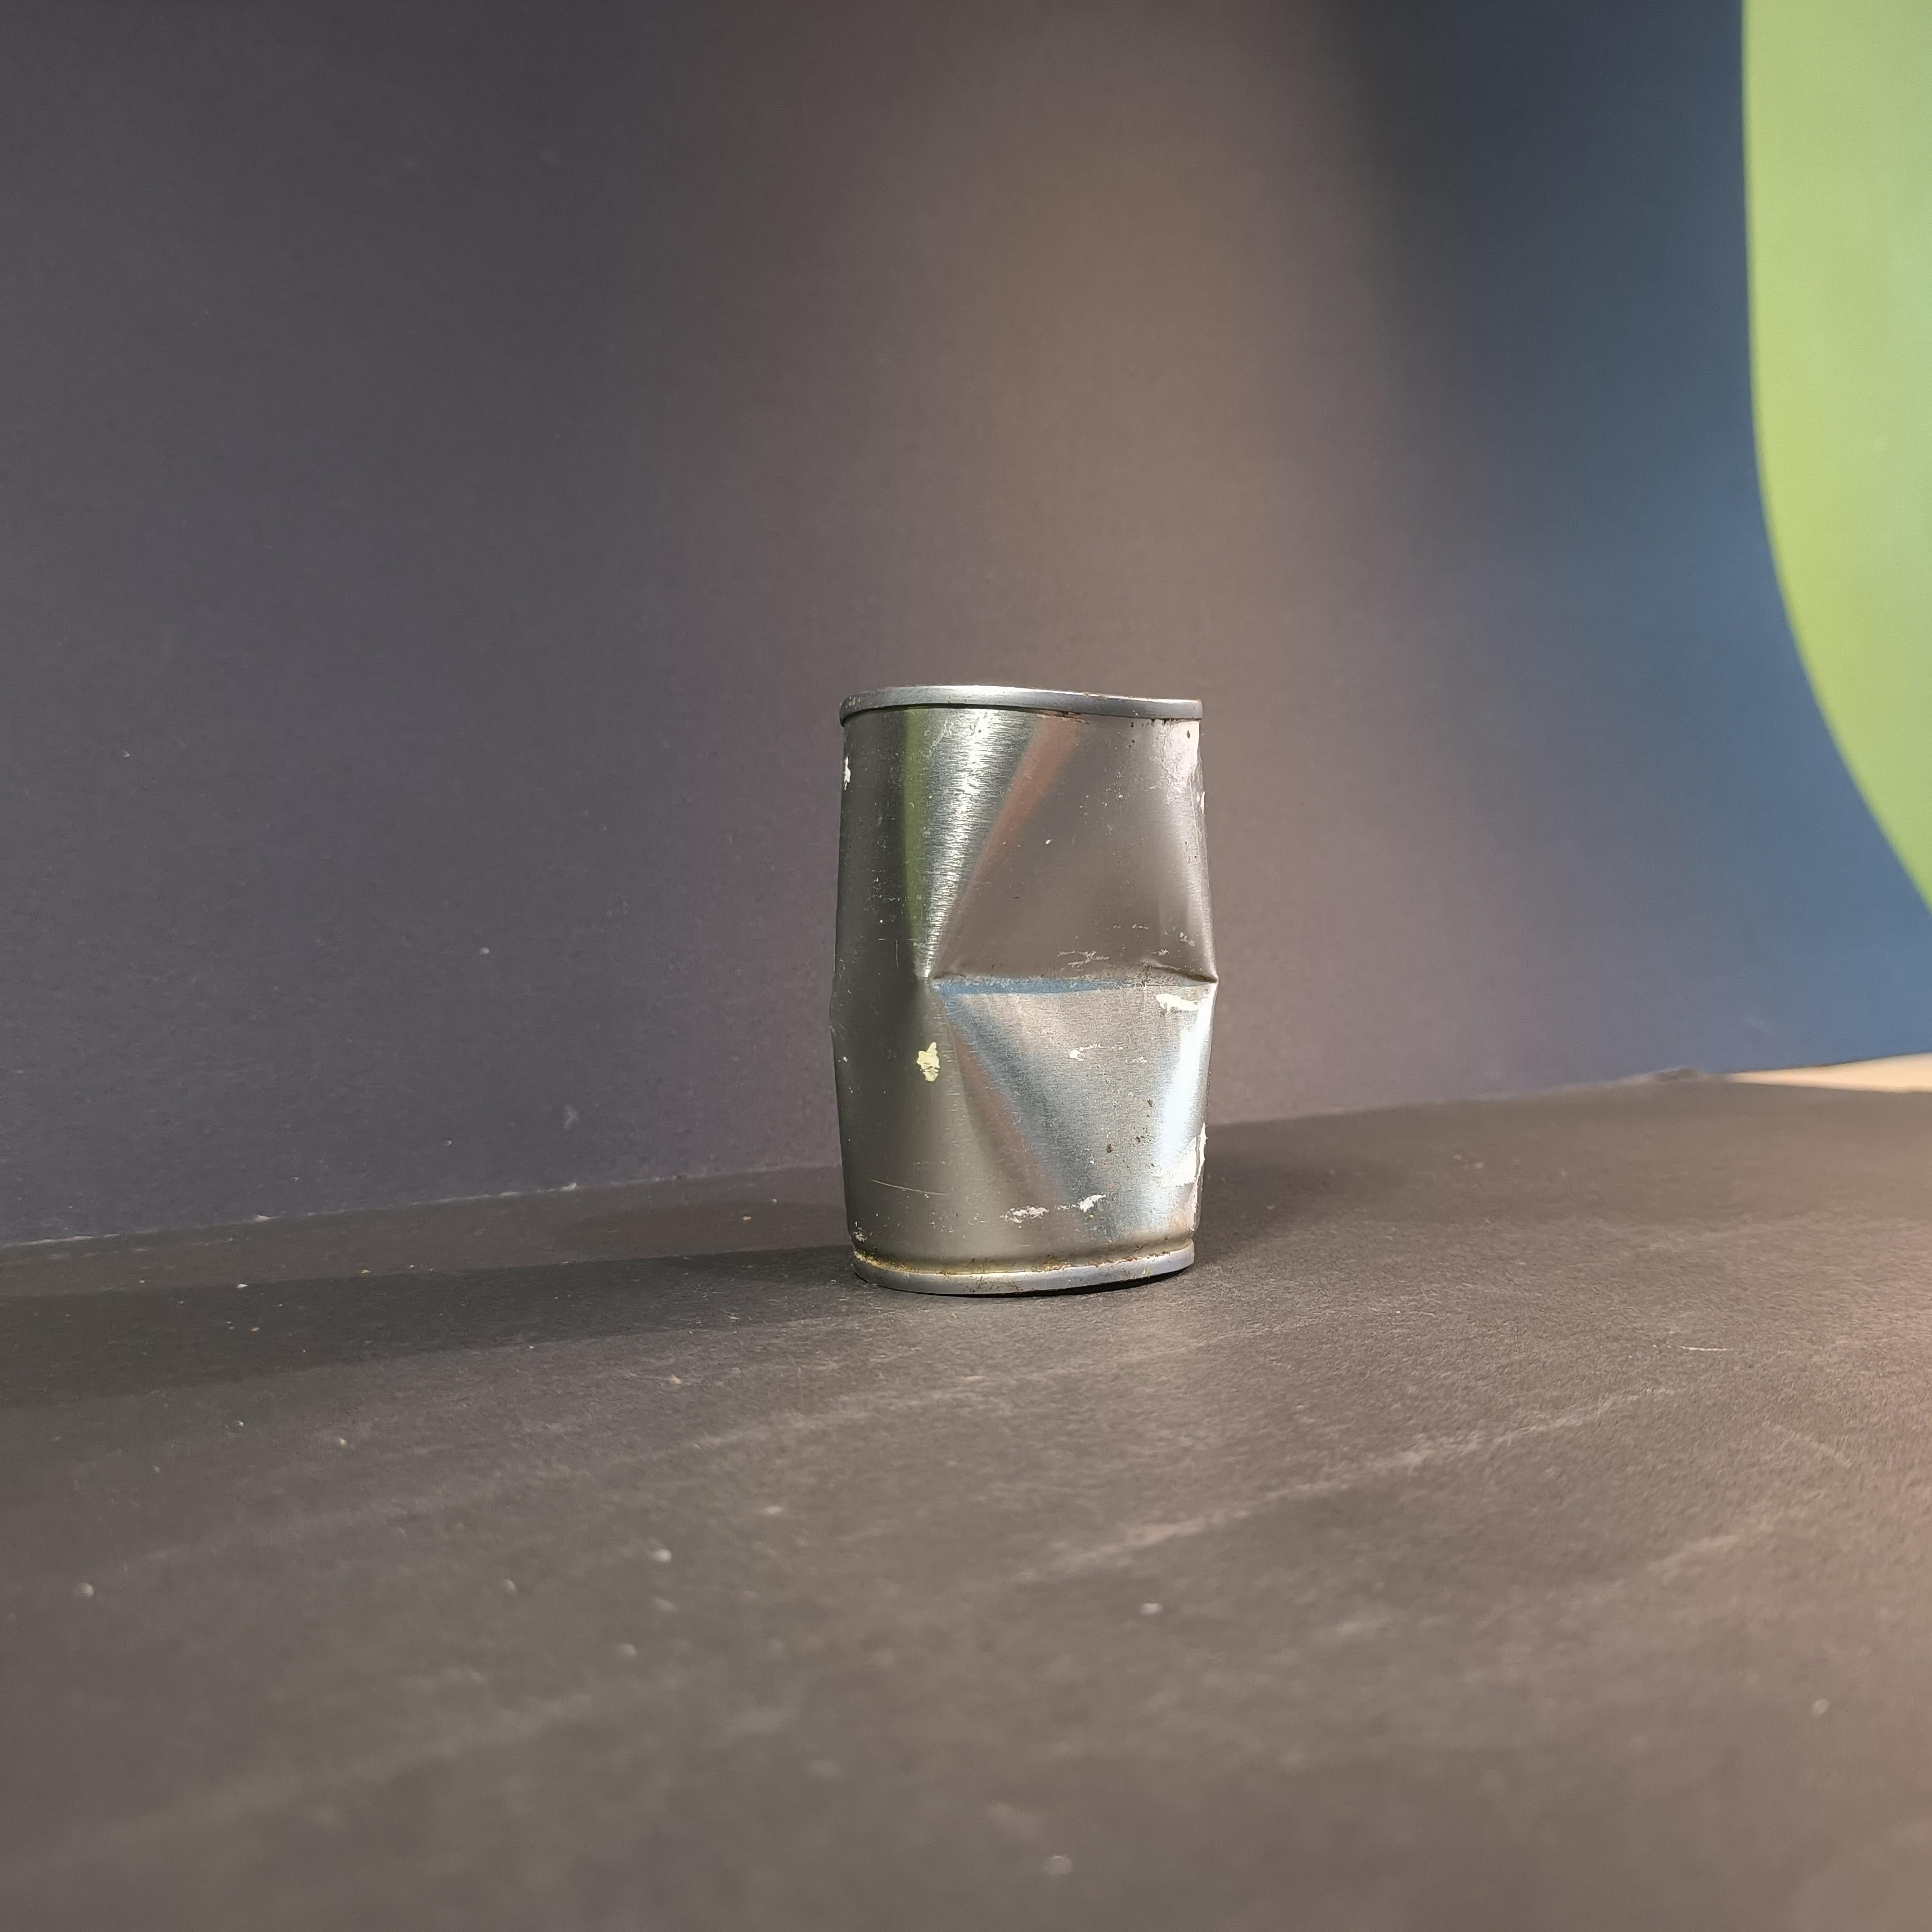Dented: (812, 662, 1240, 1311)
